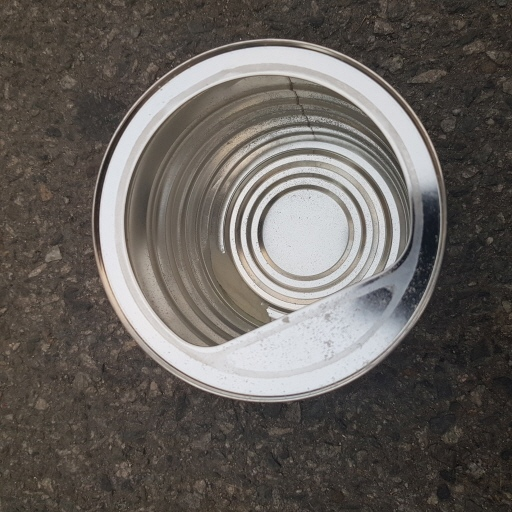Metal_1: (90, 37, 448, 404)
